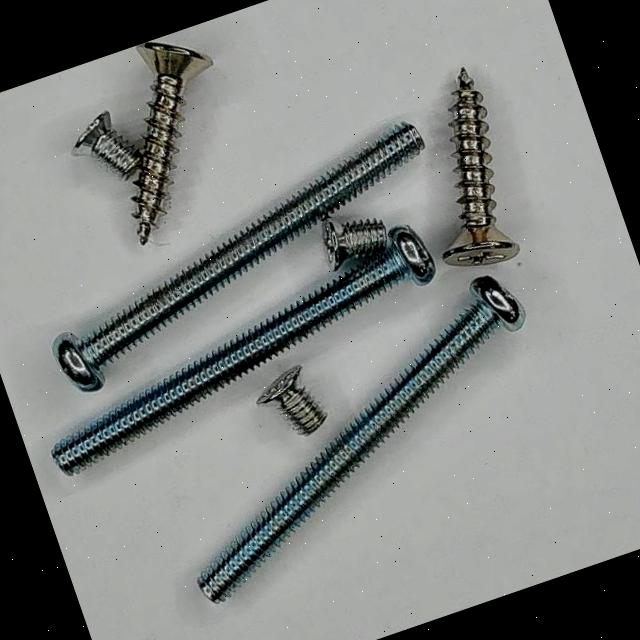Screw: (196, 275, 526, 604), (51, 121, 424, 392), (50, 225, 435, 476), (132, 41, 212, 244), (442, 66, 520, 266), (256, 365, 326, 436), (73, 110, 141, 179), (321, 217, 387, 270)
